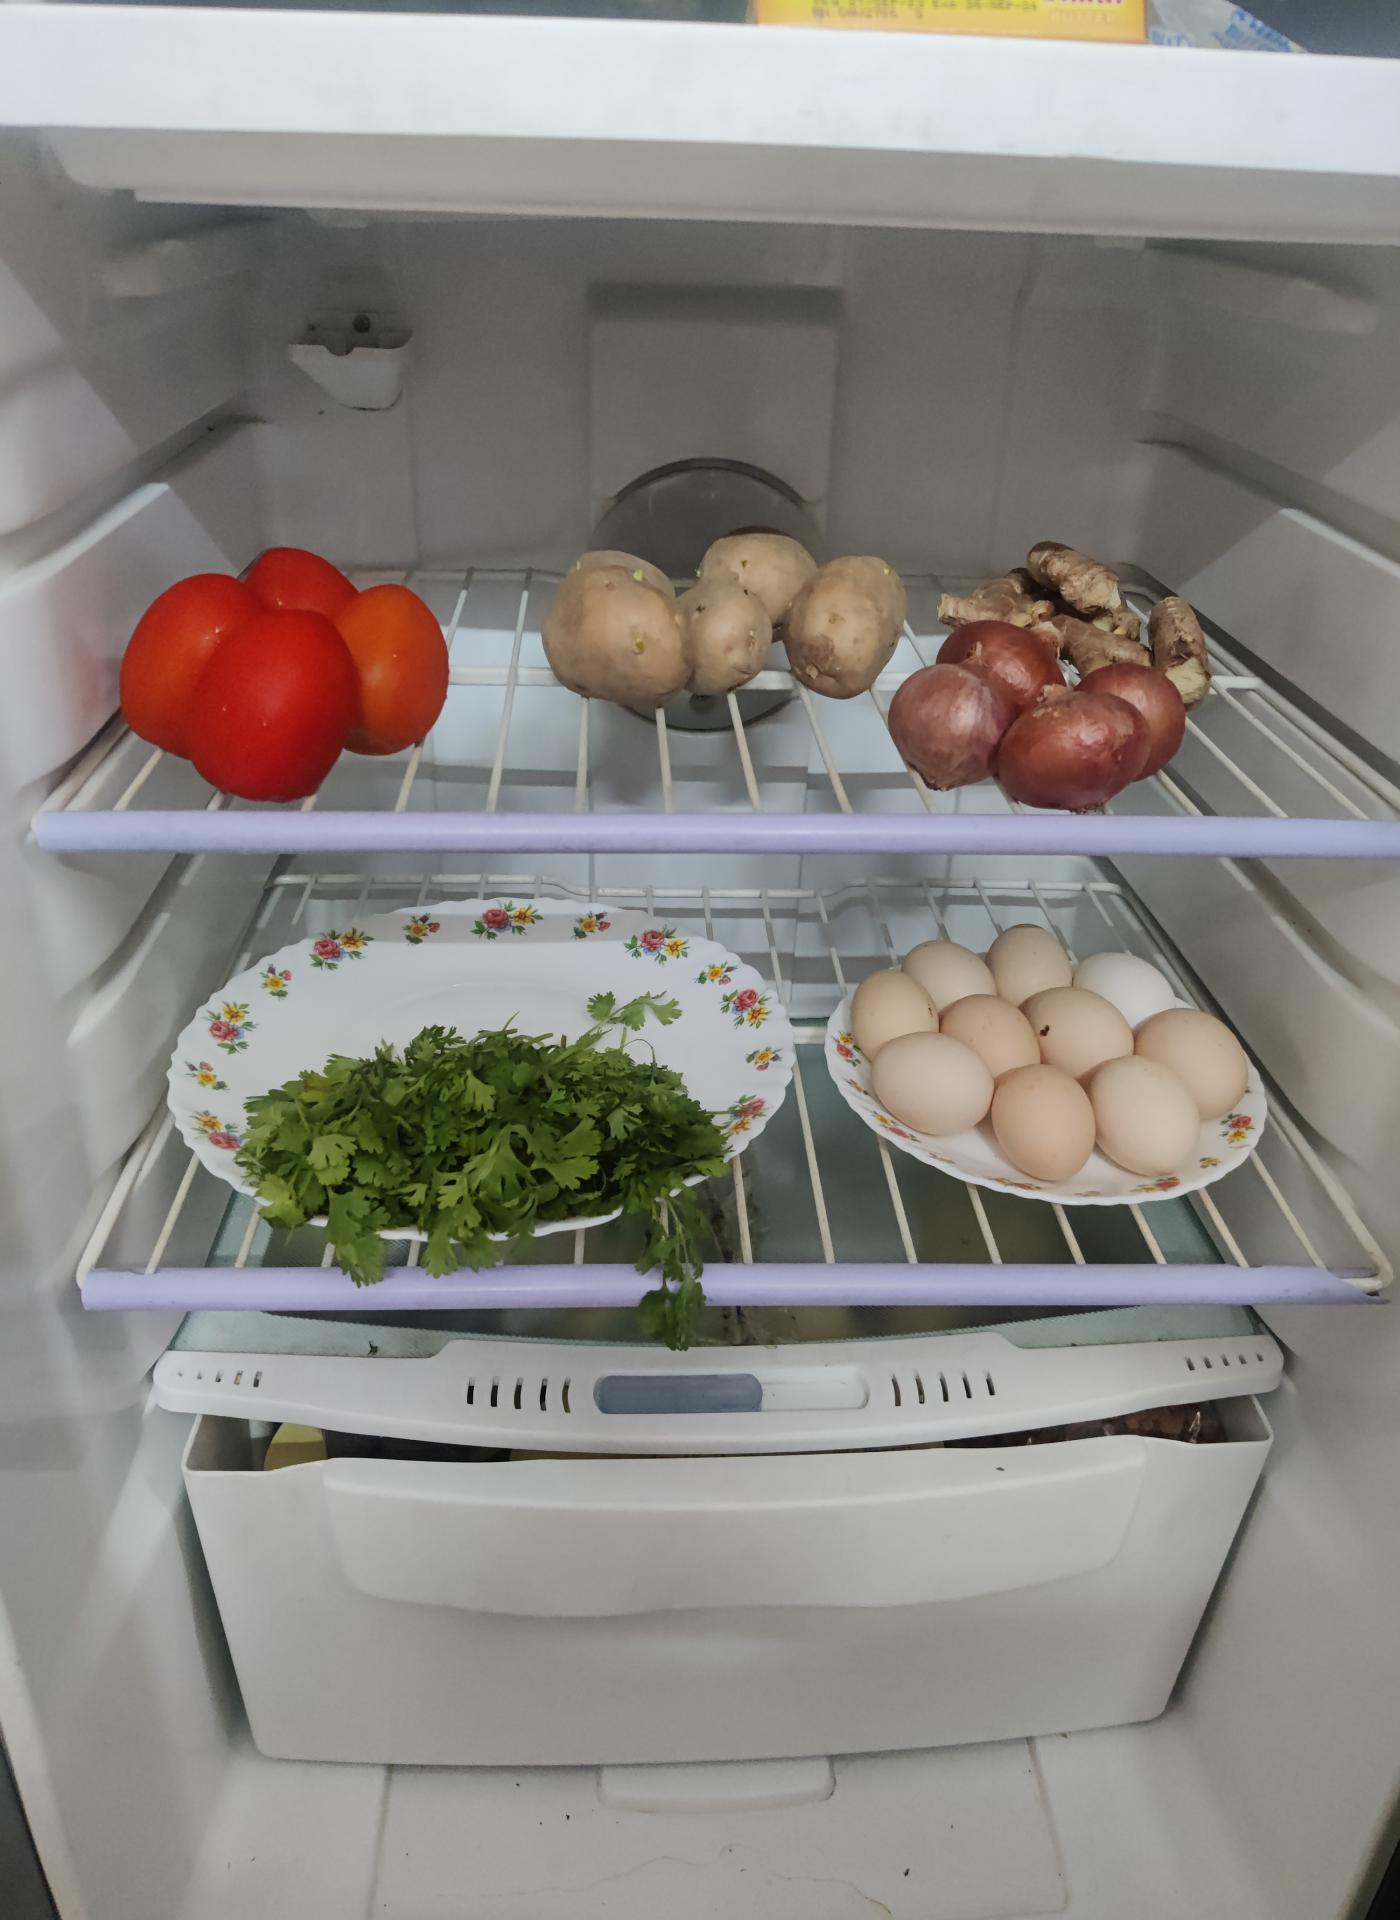coriander: (240, 1021, 729, 1255)
egg: (863, 933, 1261, 1201)
ginger: (933, 546, 1212, 675)
onion: (893, 635, 1187, 818)
potato: (544, 528, 911, 716)
tomato: (122, 550, 453, 805)
